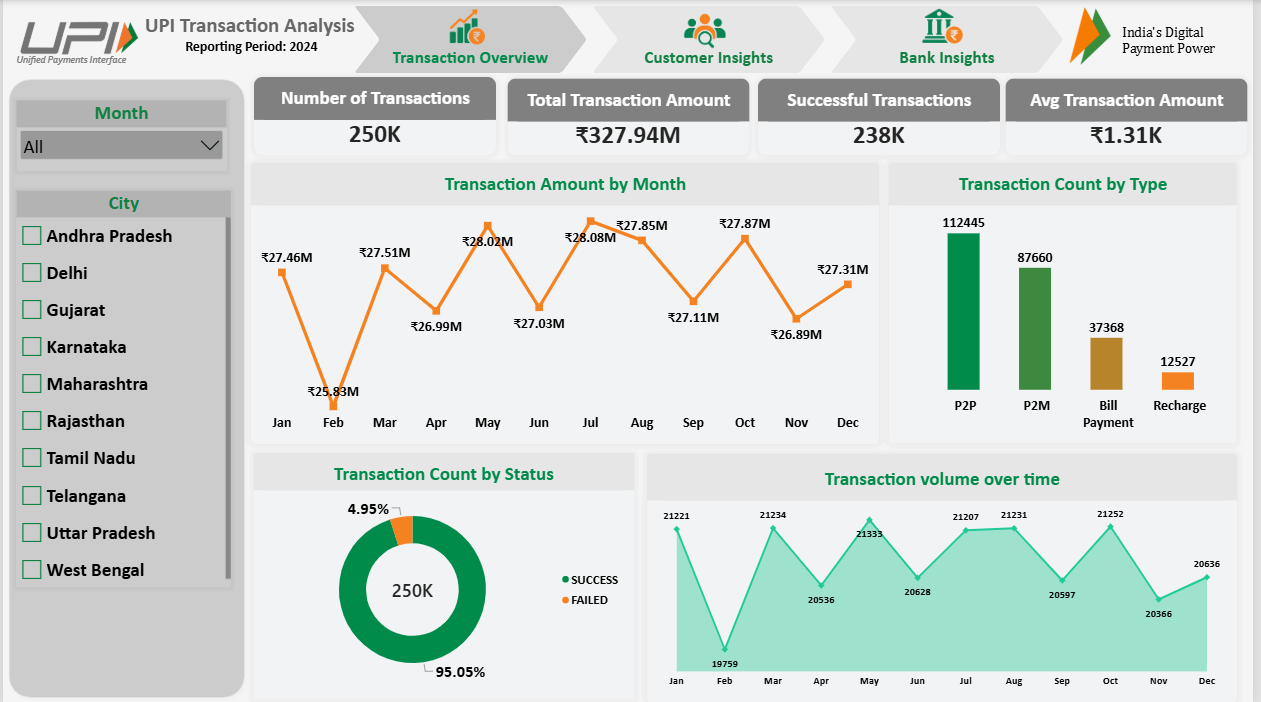

The page's visual inventory and layout, read from the dashboard file:
{"tool":"powerbi","page":{"name":"Transaction Overview","canvas":[1920,1080],"ordinal":0},"visuals":[{"type":"image","box":[6.9,4.6,221.2,108.3],"z":0,"group":"g1"},{"type":"textbox","box":[161.3,0,435.5,94.5],"z":1000,"group":"g1"},{"type":"pageNavigator","box":[539.2,9.2,1092.3,103.7],"z":2000},{"type":"card","title":"Number of Transactions","fields":{"Values":["Transaction_Table.total_transactions"]},"box":[384.8,117.5,373.3,122.1],"z":3000},{"type":"shape","box":[0,112.1,380.2,967.9],"z":4000},{"type":"lineChart","title":"Transaction Amount by Month","fields":{"Category":["Date_Table.Month"],"Y":["Calculated_measures.total_transaction_amount"]},"box":[379.8,249.5,966.6,433.7],"z":5000},{"type":"image","box":[1610.8,4.6,115.2,101.4],"z":6000},{"type":"textbox","box":[1719.1,36.9,189,87.6],"z":7000},{"type":"image","box":[629.1,4.6,163.6,71.4],"z":8000},{"type":"image","box":[995.5,9.2,163.6,71.4],"z":9000},{"type":"image","box":[1359.6,4.6,163.6,71.4],"z":10000},{"type":"slicer","title":"City","fields":{"Values":["upi_transactions_2024.sender_state"]},"box":[20.7,292.7,329.5,608.4],"z":11000},{"type":"slicer","title":"Month","fields":{"Values":["Date_Table.Date.Variation.Date Hierarchy.Month"]},"box":[20.7,154.4,322.6,108.3],"z":12000},{"type":"card","title":"Total Transaction Amount","fields":{"Values":["Calculated_measures.total_transaction_amount"]},"box":[774.3,119.8,373.3,119.8],"z":13000},{"type":"card","title":"Successful Transactions ","fields":{"Values":["Calculated_measures.successfull_transactions"]},"box":[1159.1,119.8,373.3,119.8],"z":14000},{"type":"clusteredColumnChart","title":"Transaction Count by Type","fields":{"Category":["upi_transactions_2024.transaction type"],"Y":["Calculated_measures.transaction_count"]},"box":[1359.6,248.9,536.9,433.2],"z":15000},{"type":"donutChart","title":"Transaction Count by Status","fields":{"Category":["upi_transactions_2024.transaction_status"],"Y":["Calculated_measures.transaction_count"]},"box":[384.8,695.9,585.3,377.9],"z":16000},{"type":"areaChart","title":"Transaction volume over time","fields":{"Category":["Date_Table.Month"],"Y":["Calculated_measures.transaction_count"]},"box":[988.6,695.9,908,384.8],"z":17000},{"type":"card","title":"Avg Transaction Amount","fields":{"Values":["Calculated_measures.average_transaction_amount"]},"box":[1539.4,119.8,373.3,119.8],"z":18000},{"type":"textbox","box":[20.7,62.2,230.4,43.8],"z":18001,"group":"g1"},{"type":"group","id":"g1","title":"Group 1","box":[6.9,0,589.9,112.9],"z":18002}]}

Visuals, with their boxes in screenshot pixels (x1, y1, x2, y2), scaled from the page's 1920x1080 canvas onto the 1261x702 screenshot:
image: [left=5, top=3, right=150, bottom=73]
textbox: [left=106, top=0, right=392, bottom=61]
pageNavigator: [left=354, top=6, right=1072, bottom=73]
"Number of Transactions" card: [left=253, top=76, right=498, bottom=156]
shape: [left=0, top=73, right=250, bottom=701]
"Transaction Amount by Month" lineChart: [left=249, top=162, right=884, bottom=444]
image: [left=1058, top=3, right=1134, bottom=69]
textbox: [left=1129, top=24, right=1253, bottom=81]
image: [left=413, top=3, right=521, bottom=49]
image: [left=654, top=6, right=761, bottom=52]
image: [left=893, top=3, right=1000, bottom=49]
"City" slicer: [left=14, top=190, right=230, bottom=586]
"Month" slicer: [left=14, top=100, right=225, bottom=171]
"Total Transaction Amount" card: [left=509, top=78, right=754, bottom=156]
"Successful Transactions " card: [left=761, top=78, right=1006, bottom=156]
"Transaction Count by Type" clusteredColumnChart: [left=893, top=162, right=1246, bottom=443]
"Transaction Count by Status" donutChart: [left=253, top=452, right=637, bottom=698]
"Transaction volume over time" areaChart: [left=649, top=452, right=1246, bottom=701]
"Avg Transaction Amount" card: [left=1011, top=78, right=1256, bottom=156]
textbox: [left=14, top=40, right=165, bottom=69]
"Group 1" group: [left=5, top=0, right=392, bottom=73]
